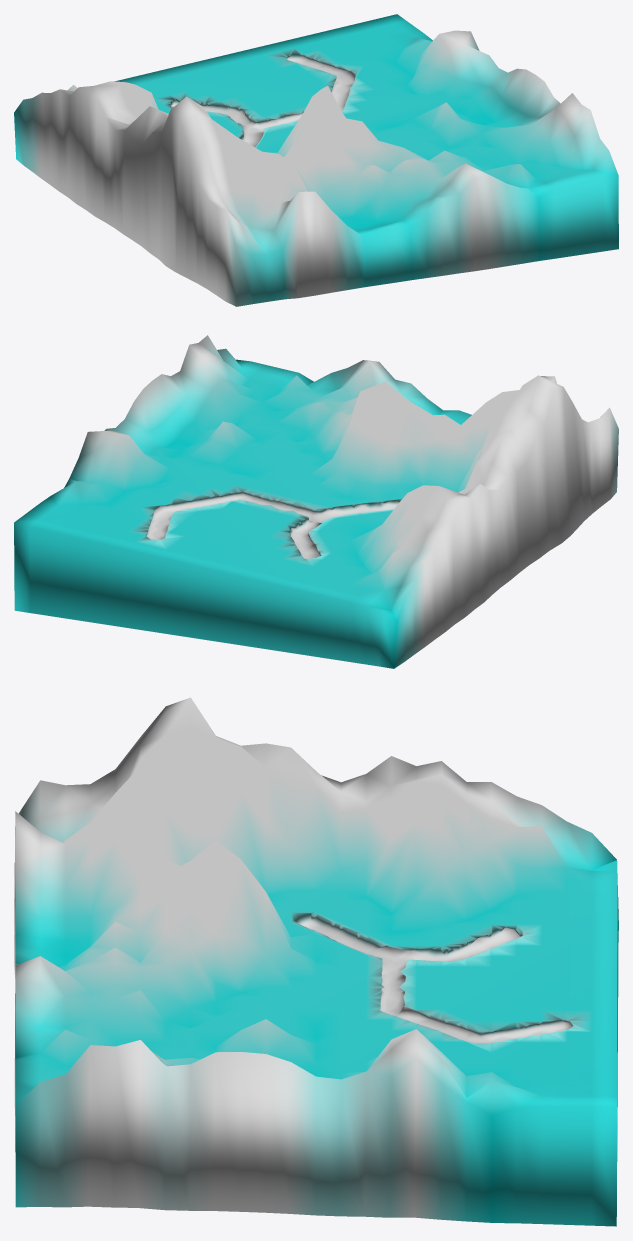
File: mount.fbx
3 views of the same model, one above another, from view 1: azimuth 30°, elevation 25°; view 2: azimuth 150°, elevation 25°; view 3: azimuth 270°, elevation 25° (orthographic). The views are drawn at different scales.
Parts seen in each view (by area): view 1: boolean3; view 2: boolean3; view 3: boolean3.
Boxes of the visible parts, x1,y1,x2,y2 form: boolean3: (14, 14, 618, 306); boolean3: (14, 335, 618, 668); boolean3: (14, 697, 618, 1226).
Size of the model in its own units: 99.73 by 51.33 by 98.52.
